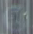Speed limit: (2, 2, 32, 31)
